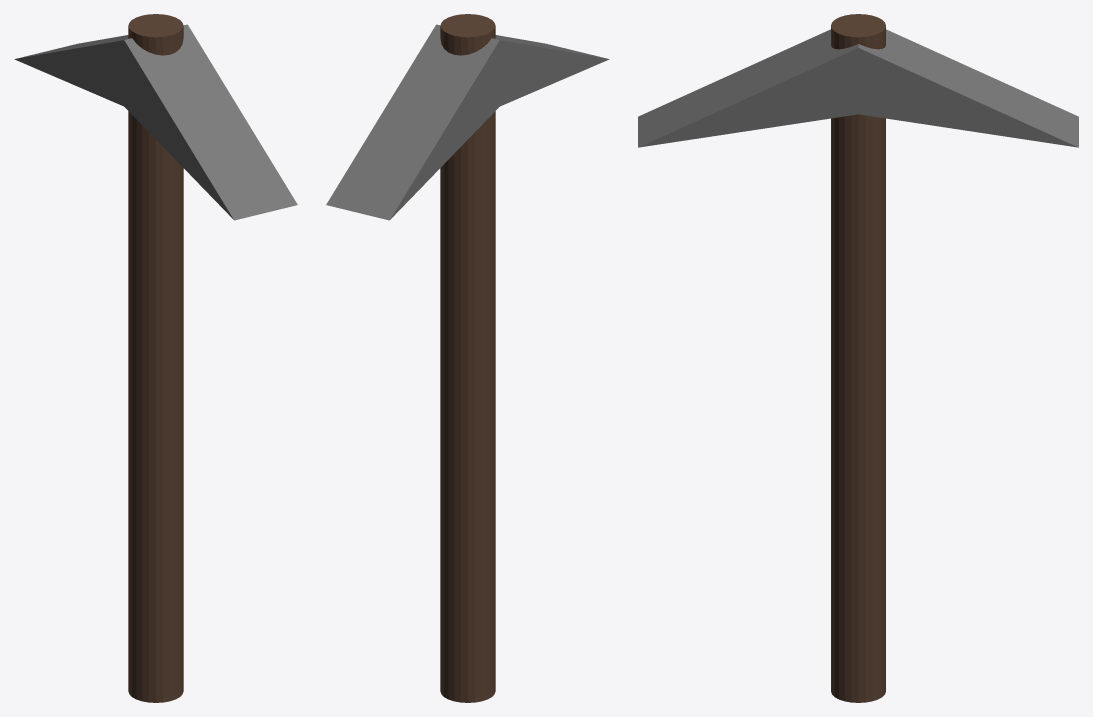
File: Pickaxe.fbx
The picture shows the model from 3 angles, left to right: view 1: azimuth 30°, elevation 25°; view 2: azimuth 150°, elevation 25°; view 3: azimuth 270°, elevation 25°; orthographic projection.
Parts seen in each view (by area): view 1: Cylinder, Cube; view 2: Cylinder, Cube; view 3: Cylinder, Cube.
Part boxes in pixels (bbox=[...]): Cylinder: bbox=[128, 14, 183, 702]; Cube: bbox=[14, 24, 297, 220]; Cylinder: bbox=[440, 14, 495, 702]; Cube: bbox=[326, 24, 609, 220]; Cylinder: bbox=[831, 14, 885, 702]; Cube: bbox=[638, 29, 1078, 147].
Size of the model in its own units: 20 by 200 by 120.
